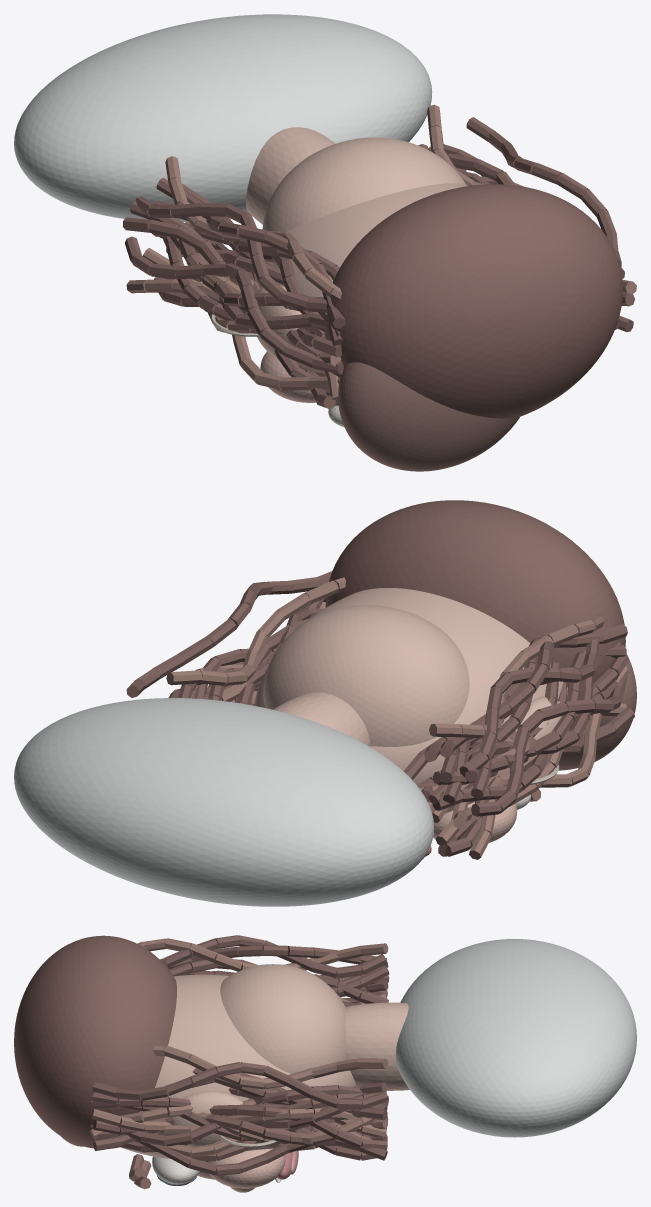
File: portrait_face.glb
The picture shows the model from 3 angles, top to bottom: view 1: azimuth 30°, elevation 25°; view 2: azimuth 150°, elevation 25°; view 3: azimuth 270°, elevation 25°; orthographic projection. The views are drawn at different scales.
Visible parts, largest first — view 1: world; view 2: world; view 3: world.
Boxes of the visible parts, x1,y1,x2,y2 form: world: (14,14,636,471); world: (14,500,636,906); world: (14,935,636,1192).
Bounding box in the file's own units: 2.36 × 1.66 × 3.97.
